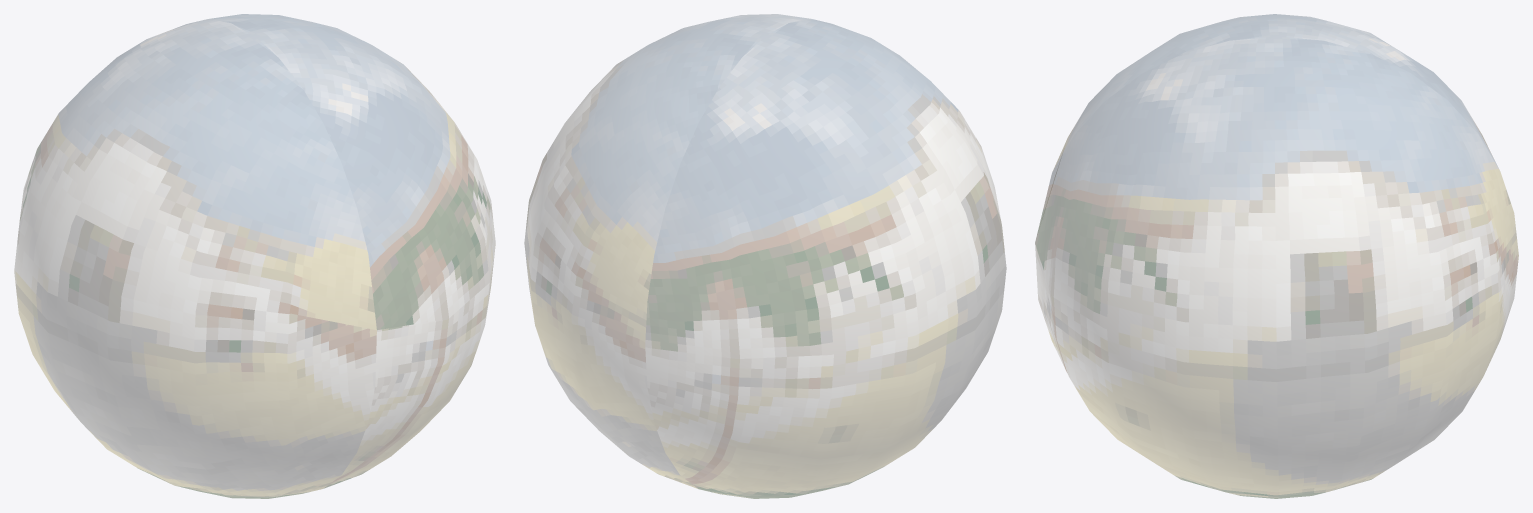
The model's file is crystal_ball.glb.
3 renders of one model, left to right at view 1: azimuth 30°, elevation 25°; view 2: azimuth 150°, elevation 25°; view 3: azimuth 270°, elevation 25°, orthographic.
Parts seen in each view (by area): view 1: track_screenshot_dummy.png__; view 2: track_screenshot_dummy.png__; view 3: track_screenshot_dummy.png__.
Part boxes in pixels (x1=…): track_screenshot_dummy.png__: x1=14, y1=14, x2=495, y2=498; track_screenshot_dummy.png__: x1=524, y1=14, x2=1006, y2=498; track_screenshot_dummy.png__: x1=1035, y1=14, x2=1518, y2=498.
Size of the model in its own units: 0.9906 by 0.9907 by 0.9874.
1 material, 1 textured.
